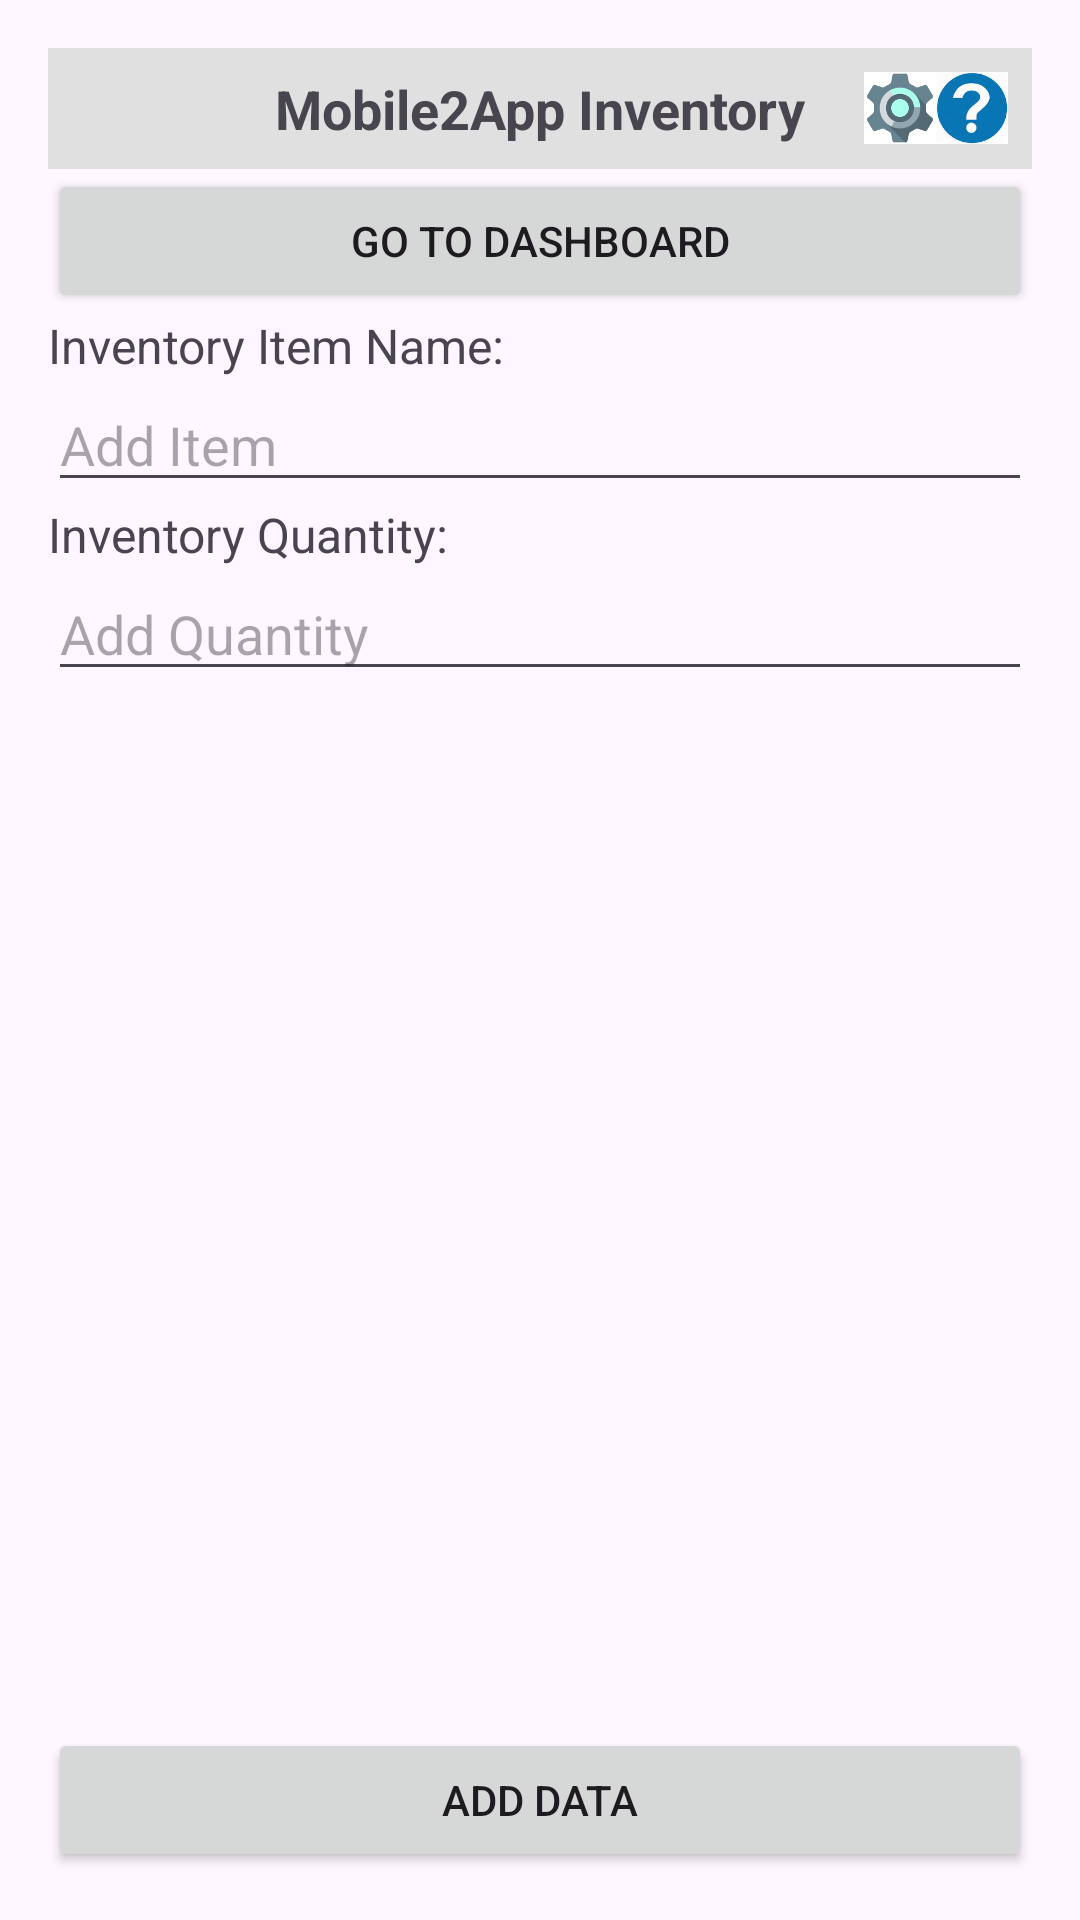

Icons on this 1080 × 1920 Android screen, each with the point to tap as (x,y):
help: (972,108)
settings: (900,108)
